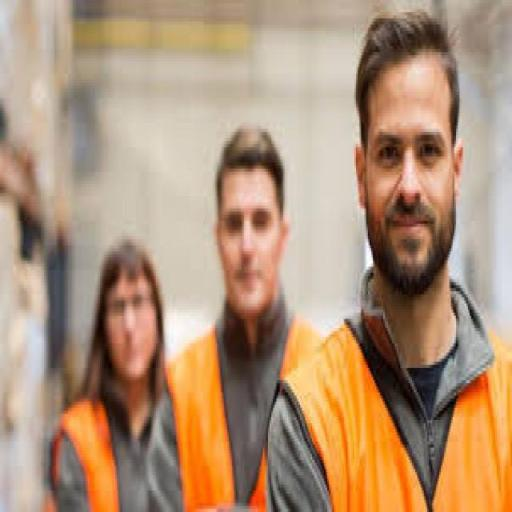vest: (318, 313, 510, 512), (150, 318, 331, 512), (58, 380, 202, 512)
